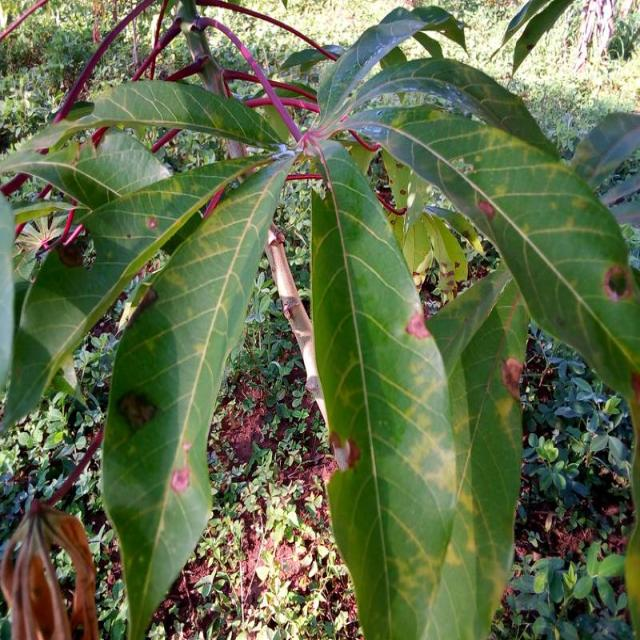cassava leaf: (1, 2, 638, 638), (99, 146, 297, 638), (307, 135, 460, 638)
